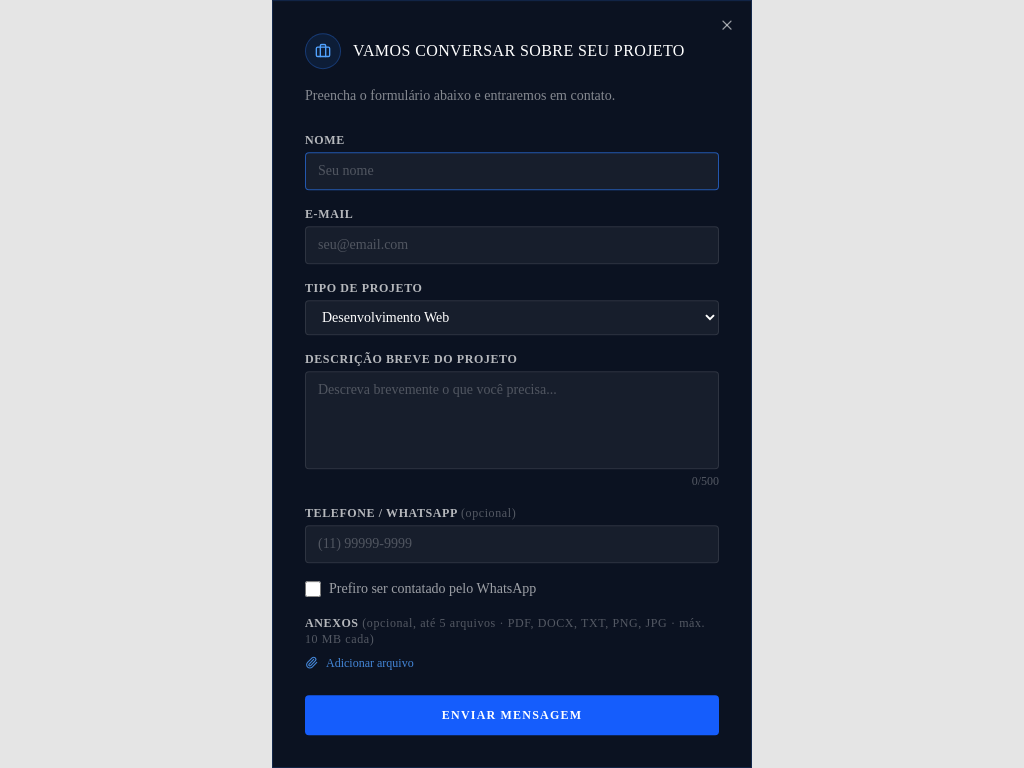
it: ContactModal › estado success › exibe painel de sucesso após envio bem-sucedido
Type "César" into the field labelled "Nome" at (512, 171), box [305, 152, 719, 190]
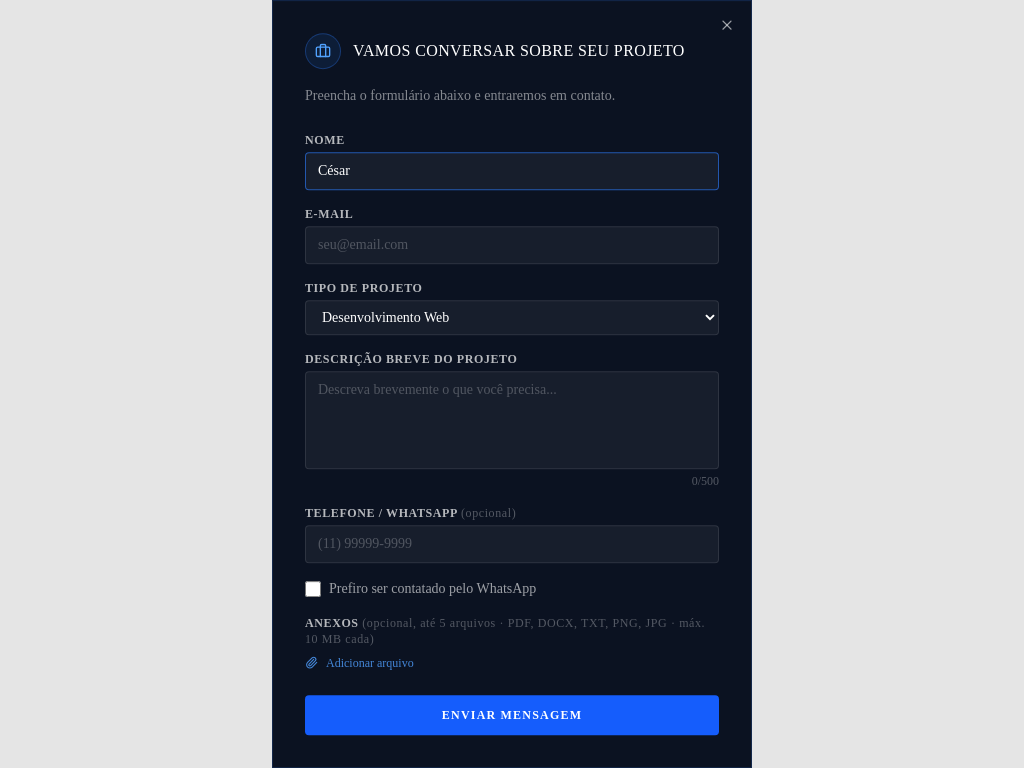
Type "cesar@exemplo.com" into the field labelled "E-mail" at (512, 245), box [305, 226, 719, 264]
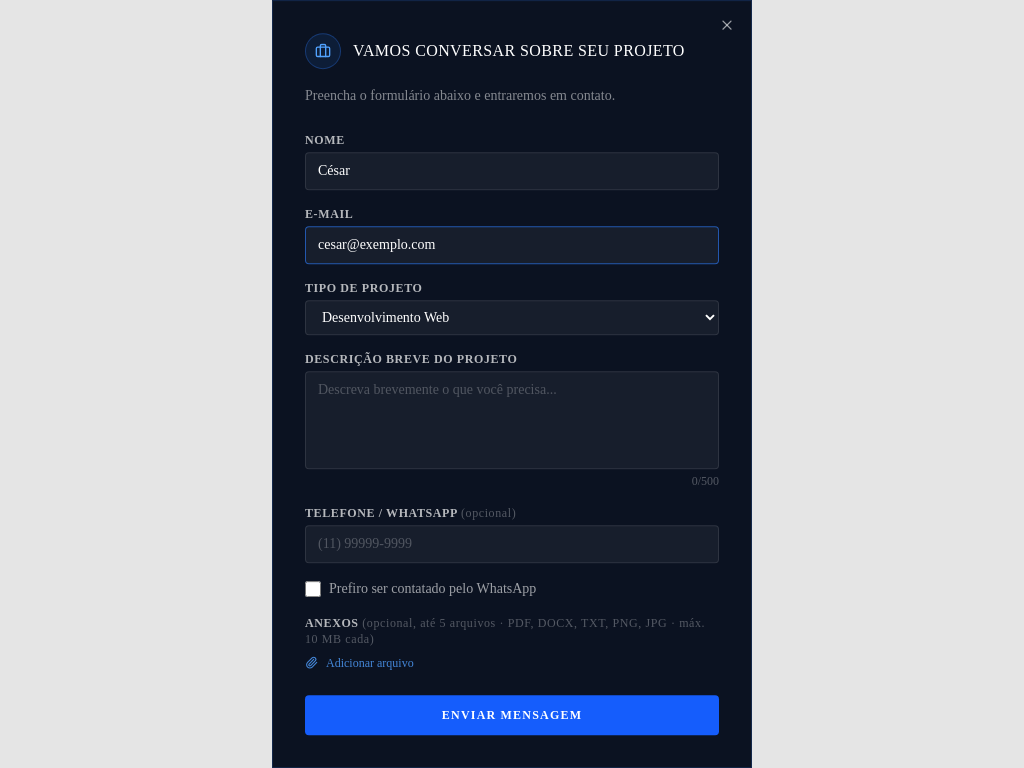
Type "Preciso de um sistema de gestão completo." into the text box labelled "Descrição breve do projeto" at (512, 420), box [305, 371, 719, 469]
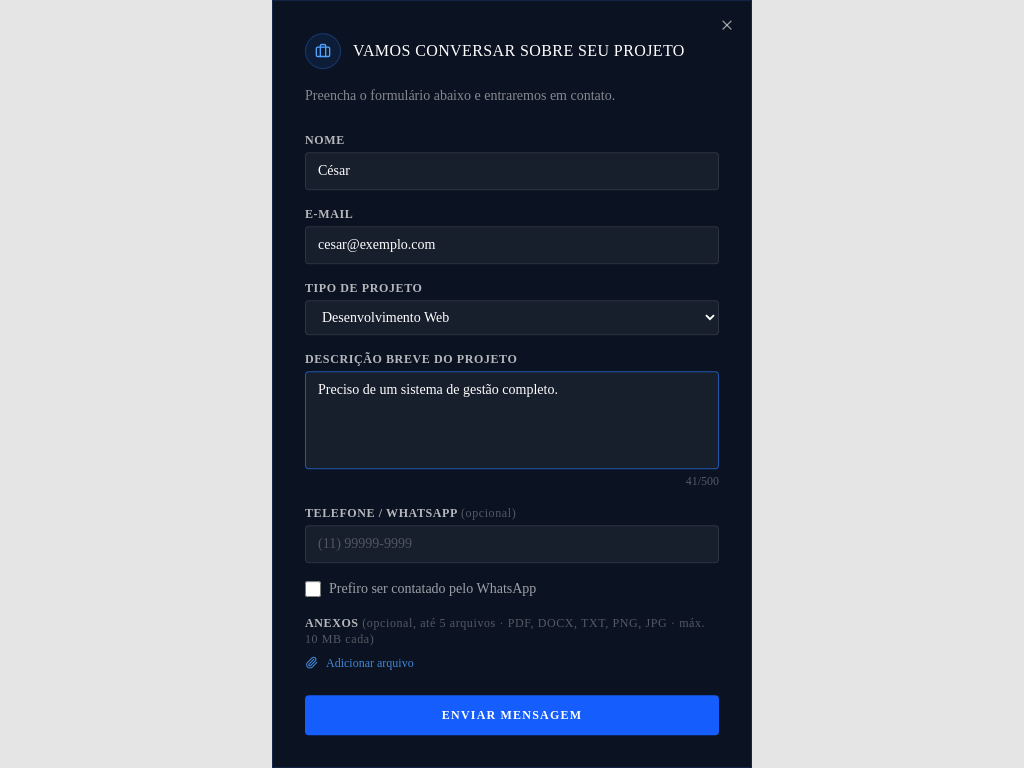
Click the button "Enviar mensagem" at (512, 715), box [305, 695, 719, 735]
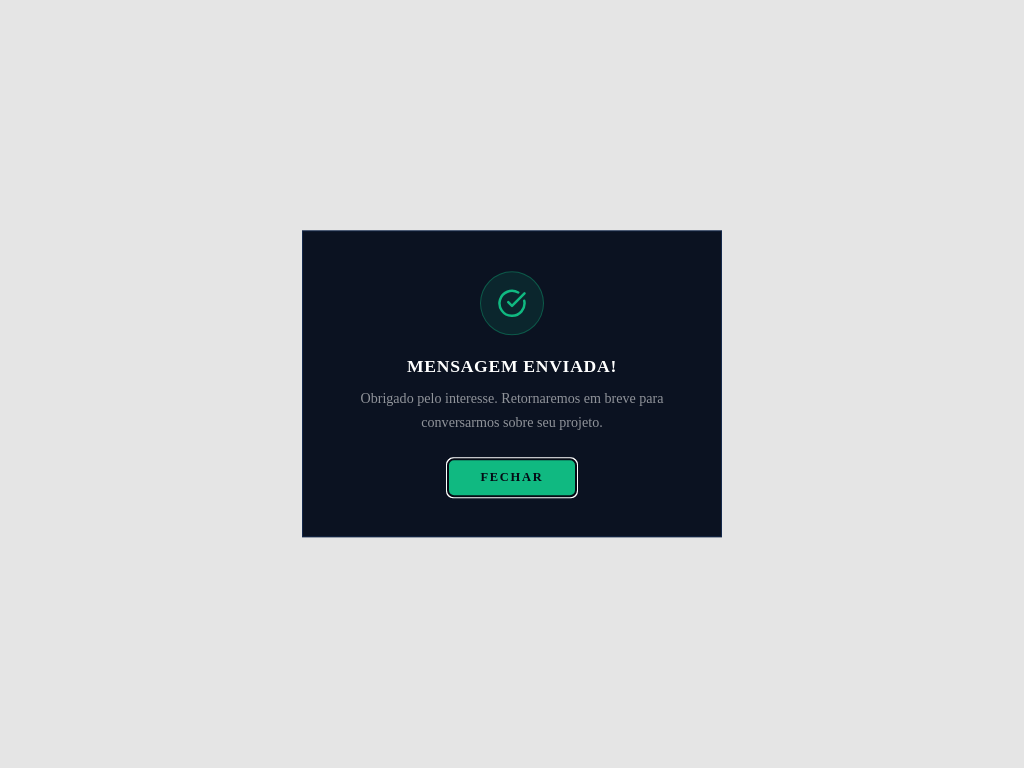
expect the heading "Mensagem enviada!" is shown: met, box [407, 356, 617, 376]
